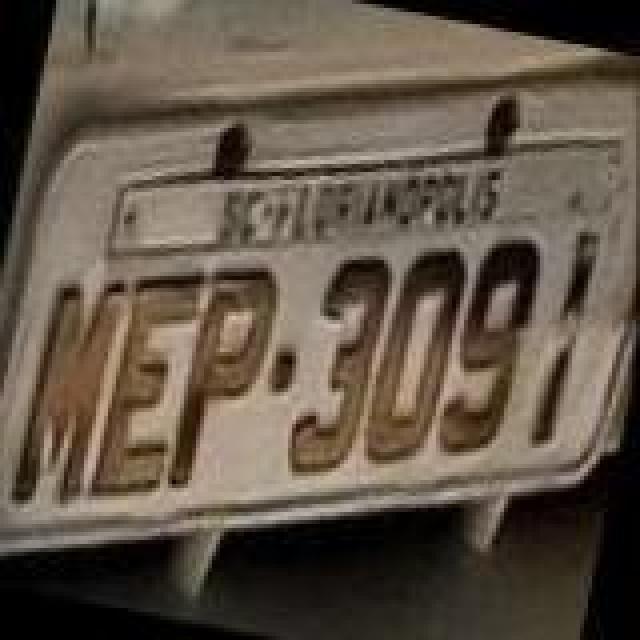1: (528, 220, 604, 452)
3: (280, 246, 396, 490)
9: (432, 226, 548, 462)
E: (92, 256, 208, 512)
M: (10, 264, 130, 520)
O: (360, 230, 476, 474)
P: (160, 252, 284, 508)
